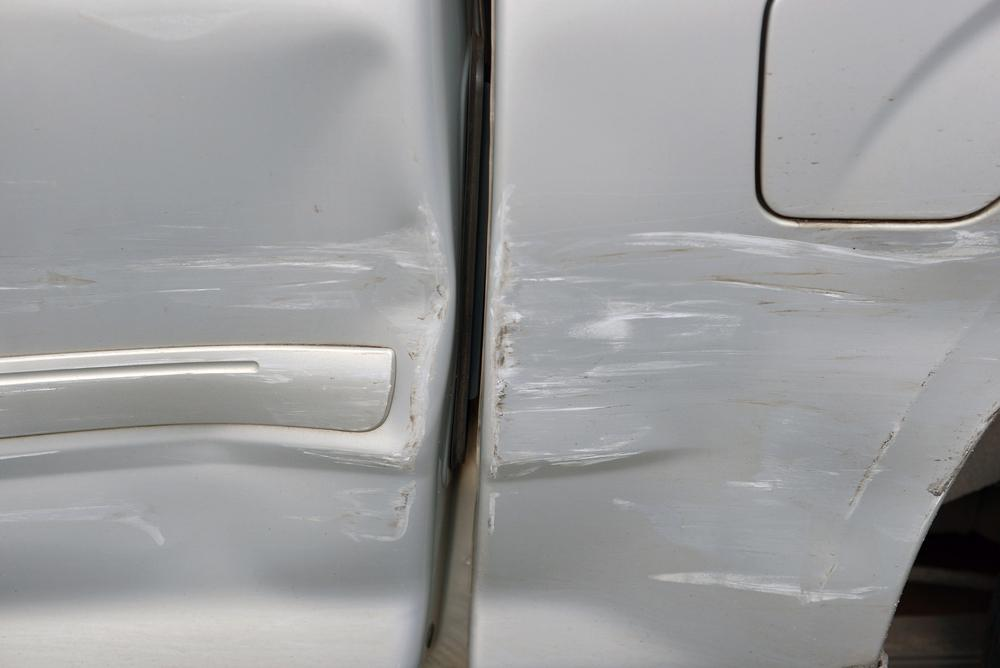scratch: (475, 184, 1000, 610), (0, 196, 455, 554)
